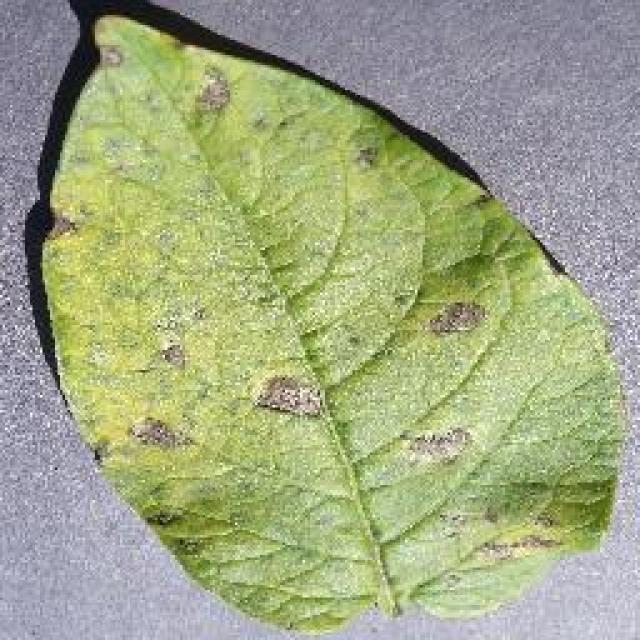early_blight: (30, 0, 630, 638)
